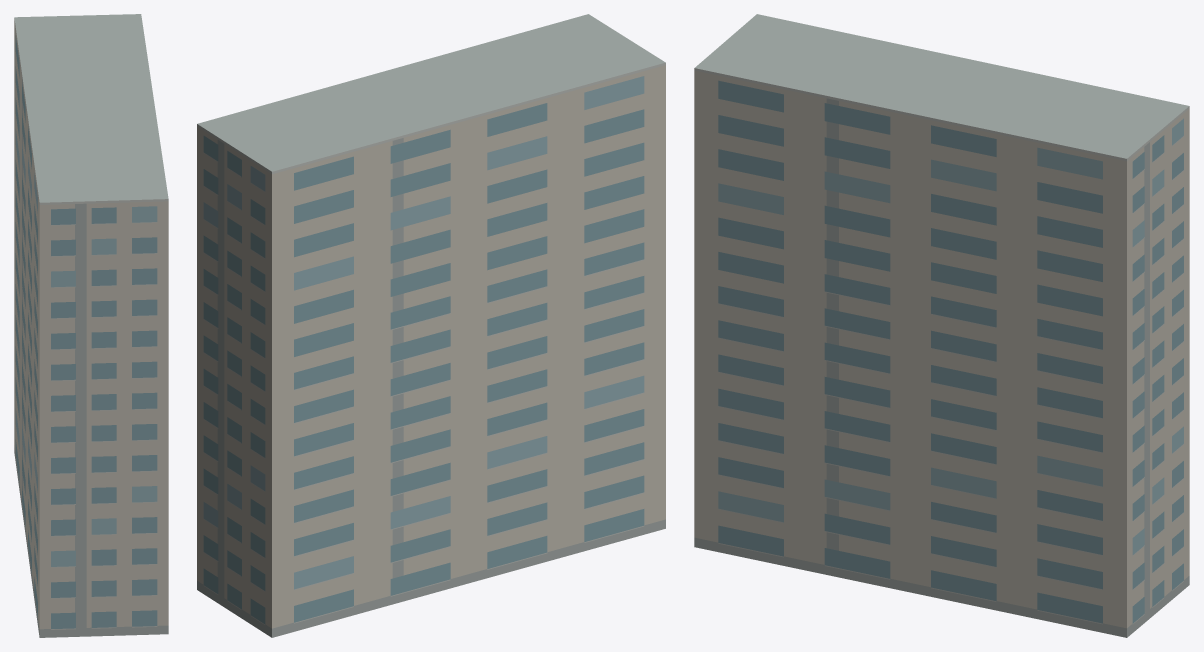
File: residential-e928366b-0972-4eff-88e8-9a942c6ebdb8.glb
3 renders of one model, left to right at view 1: azimuth 30°, elevation 25°; view 2: azimuth 150°, elevation 25°; view 3: azimuth 270°, elevation 25°, orthographic. The views are drawn at different scales.
Parts seen in each view (by area): view 1: residential-e928366b-0972-4eff-88e8-9a942c6ebdb8.tmp; view 2: residential-e928366b-0972-4eff-88e8-9a942c6ebdb8.tmp; view 3: residential-e928366b-0972-4eff-88e8-9a942c6ebdb8.tmp.
Part boxes in pixels (x1,y1,x2,y2): residential-e928366b-0972-4eff-88e8-9a942c6ebdb8.tmp: [14, 14, 168, 637]; residential-e928366b-0972-4eff-88e8-9a942c6ebdb8.tmp: [197, 14, 665, 637]; residential-e928366b-0972-4eff-88e8-9a942c6ebdb8.tmp: [694, 14, 1189, 637].
Size of the model in its own units: 29.84 by 46 by 43.09.
